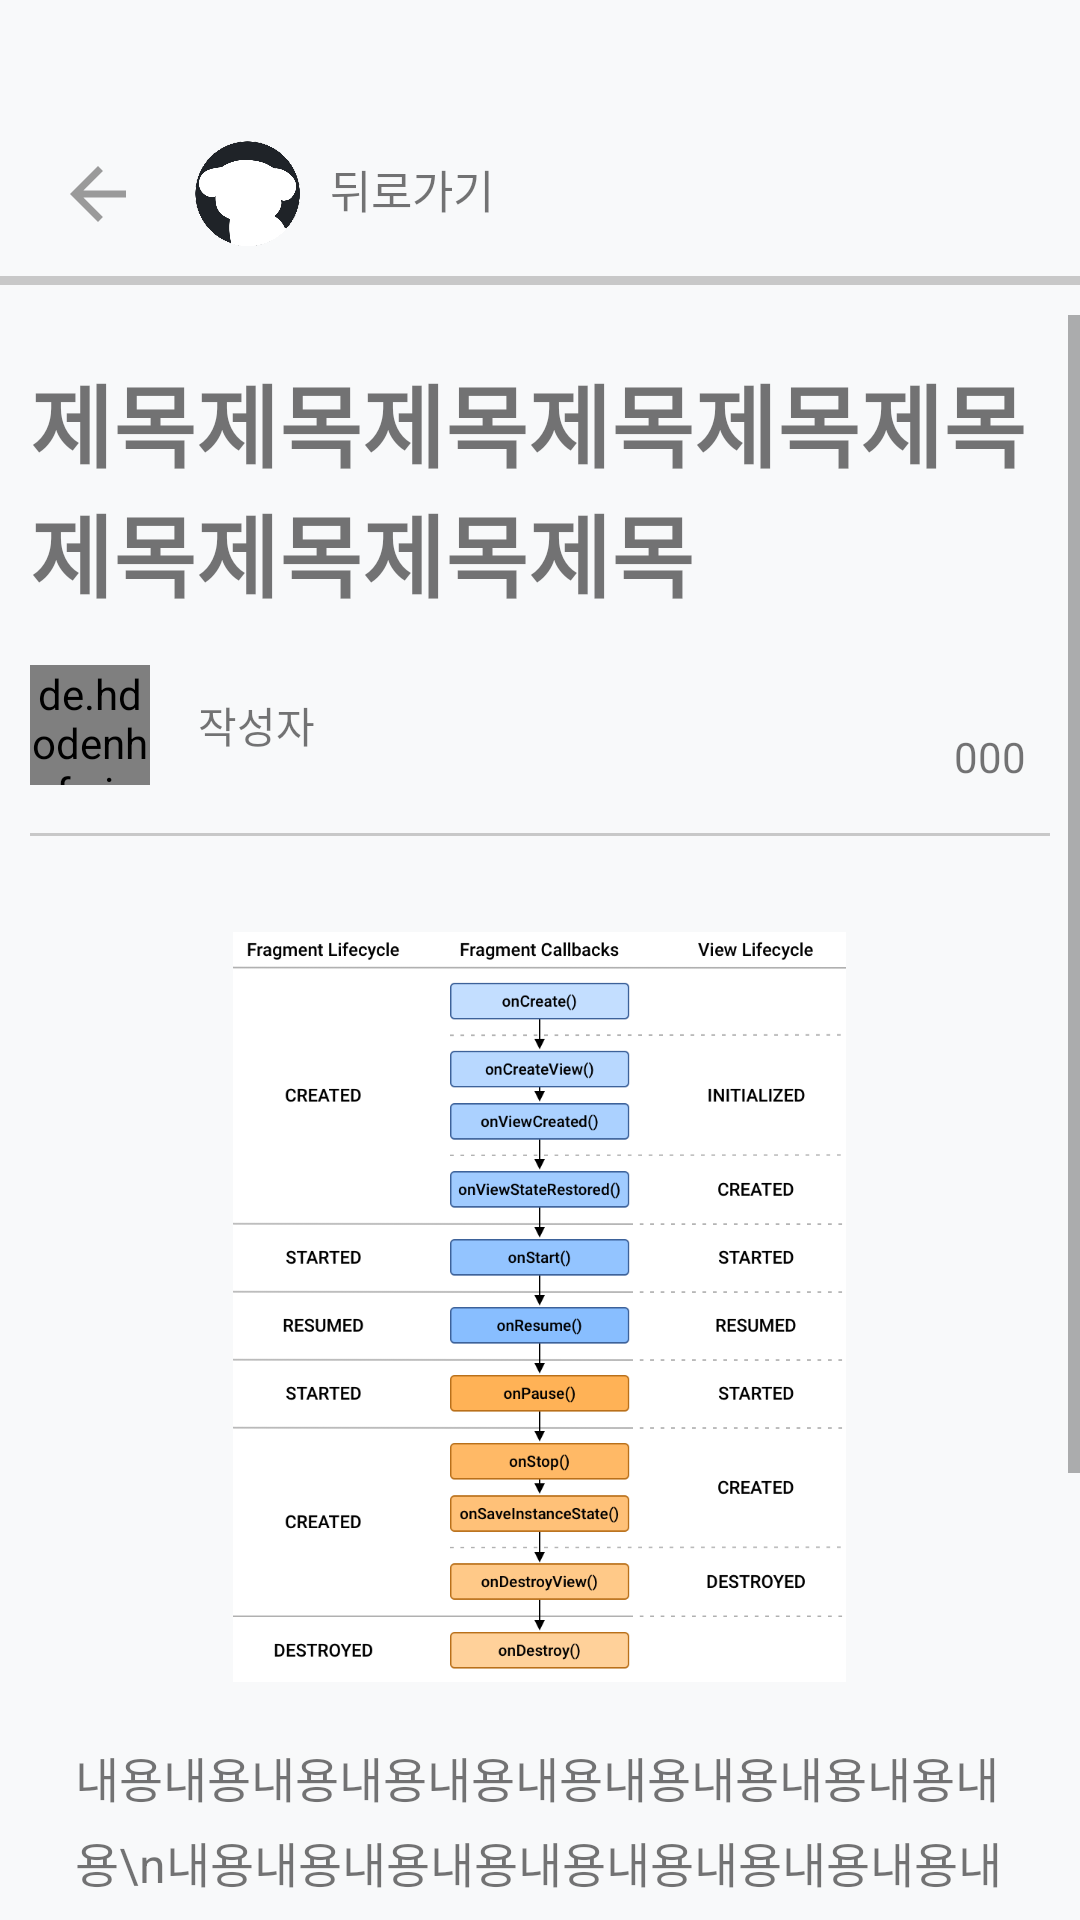

Named icons in this screenshot (1080 x 1920) and their centers, [x,y]:
arrow back: [98,194]
